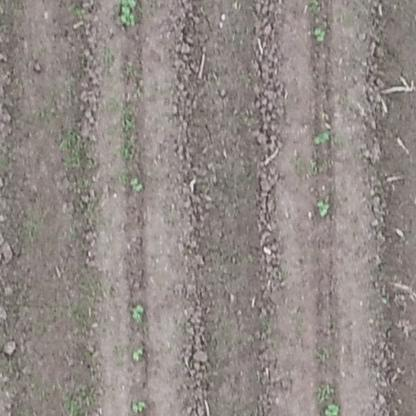vc: (116, 3, 139, 28), (312, 125, 331, 151), (128, 395, 149, 414), (130, 301, 146, 323), (315, 197, 332, 217), (312, 25, 329, 44), (129, 175, 145, 193), (322, 401, 342, 415), (132, 346, 144, 361)
